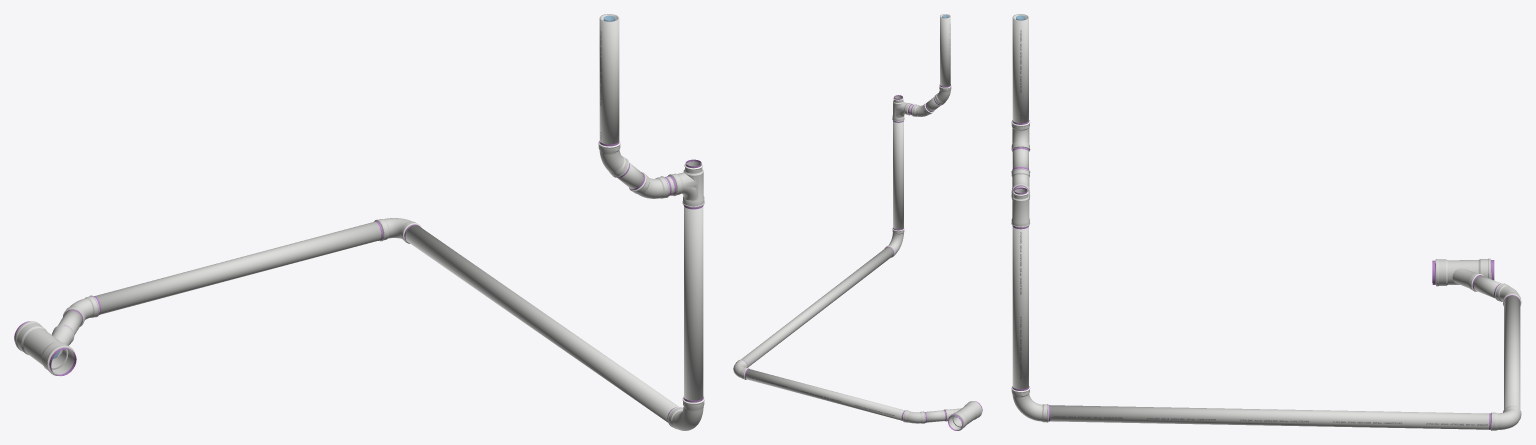
Rendered from slab_pipes_dwv__fault-standpipe_no_trap.glb.
The picture shows the model from 3 angles, left to right: view 1: azimuth 30°, elevation 25°; view 2: azimuth 150°, elevation 25°; view 3: azimuth 270°, elevation 25°; orthographic projection. The views are drawn at different scales.
Visible parts, largest first — view 1: pipe_dwv_laundry_notrap, fit_wye_pipe_dwv_laundry_notrap, fit_tee_pipe_dwv_laundry_notrap; view 2: pipe_dwv_laundry_notrap, fit_wye_pipe_dwv_laundry_notrap, fit_tee_pipe_dwv_laundry_notrap; view 3: pipe_dwv_laundry_notrap, fit_wye_pipe_dwv_laundry_notrap, fit_tee_pipe_dwv_laundry_notrap.
Boxes of the visible parts, x1=… form: pipe_dwv_laundry_notrap: x1=58, y1=14, x2=704, y2=430; fit_wye_pipe_dwv_laundry_notrap: x1=14, y1=321, x2=76, y2=376; fit_tee_pipe_dwv_laundry_notrap: x1=667, y1=159, x2=704, y2=209; pipe_dwv_laundry_notrap: x1=733, y1=14, x2=951, y2=423; fit_wye_pipe_dwv_laundry_notrap: x1=943, y1=401, x2=982, y2=430; fit_tee_pipe_dwv_laundry_notrap: x1=892, y1=95, x2=912, y2=122; pipe_dwv_laundry_notrap: x1=1011, y1=14, x2=1521, y2=430; fit_wye_pipe_dwv_laundry_notrap: x1=1432, y1=258, x2=1494, y2=291; fit_tee_pipe_dwv_laundry_notrap: x1=1011, y1=187, x2=1030, y2=229.
Size of the model in its own units: 1.44 by 1.58 by 1.87.
5 materials, 1 textured.
